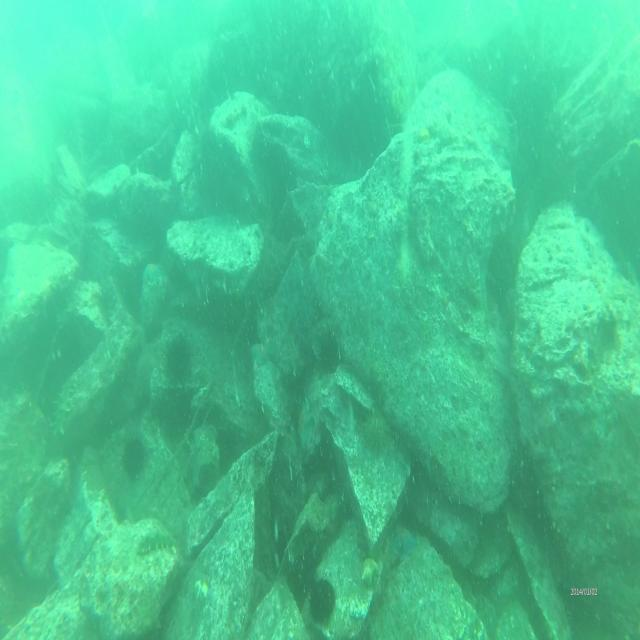echinus: (358, 410, 398, 458), (126, 353, 152, 419), (120, 438, 150, 486), (308, 576, 336, 627), (191, 460, 218, 509), (164, 333, 190, 382)
holothurian: (52, 376, 80, 436), (135, 524, 181, 554)
starfish: (388, 519, 419, 552), (297, 405, 315, 453)
